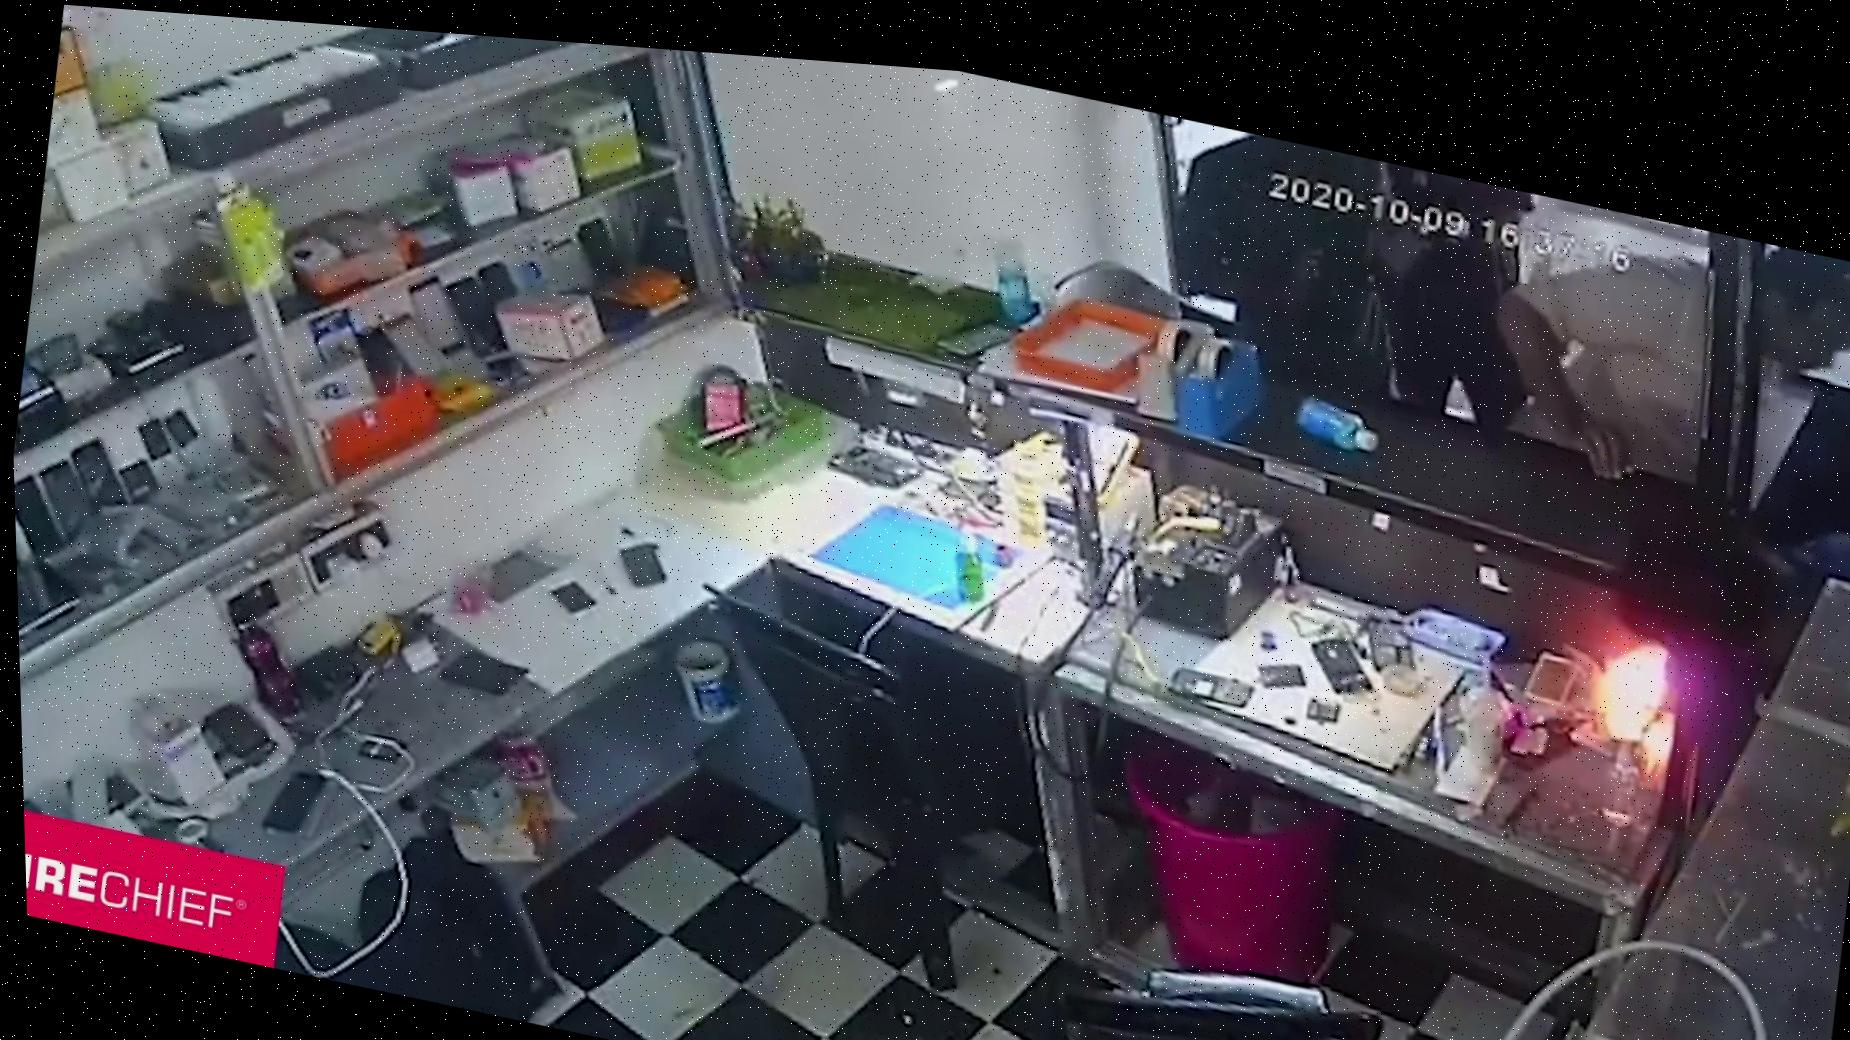fire: (1455, 494, 1780, 943)
